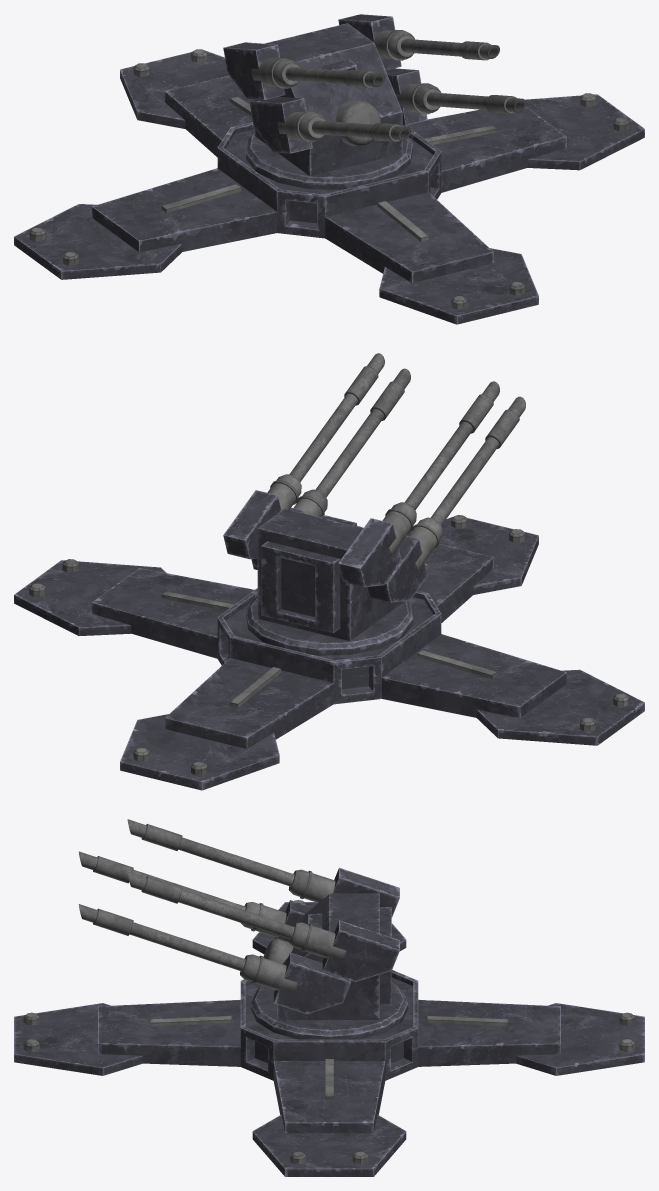
The model's file is AntiAirTurret.fbx.
3 views of the same model, one above another, from view 1: azimuth 30°, elevation 25°; view 2: azimuth 150°, elevation 25°; view 3: azimuth 270°, elevation 25° (orthographic). The views are drawn at different scales.
Visible parts, largest first — view 1: AATurret; view 2: AATurret; view 3: AATurret.
Part boxes in pixels (x1,y1,x2,y2): AATurret: [14, 14, 644, 324]; AATurret: [14, 353, 644, 790]; AATurret: [14, 819, 644, 1176].
Size of the model in its own units: 1420 by 491 by 1420.
